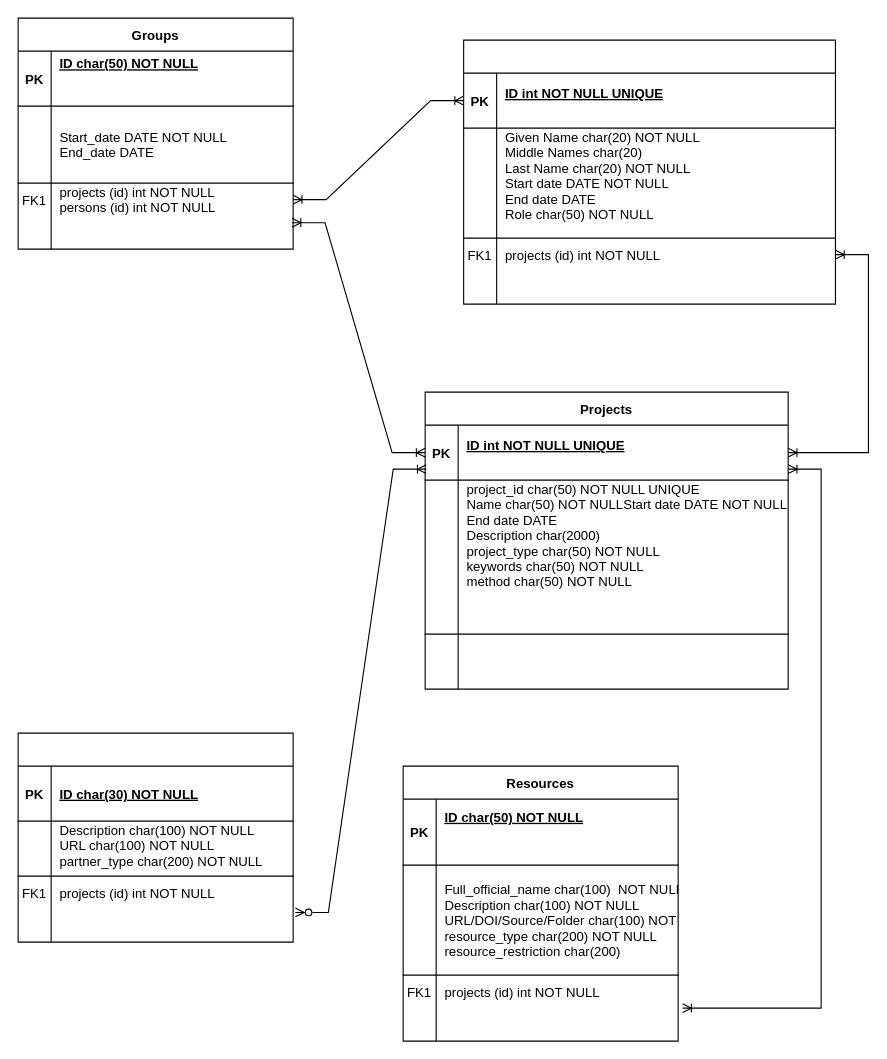
The diagram is 887 pixels wide and 1059 high, and some of its shapes have lost their labels. Each missing label, with the box of its shape:
ExternalPartners: (17, 732, 293, 942)
Persons: (463, 39, 835, 304)
